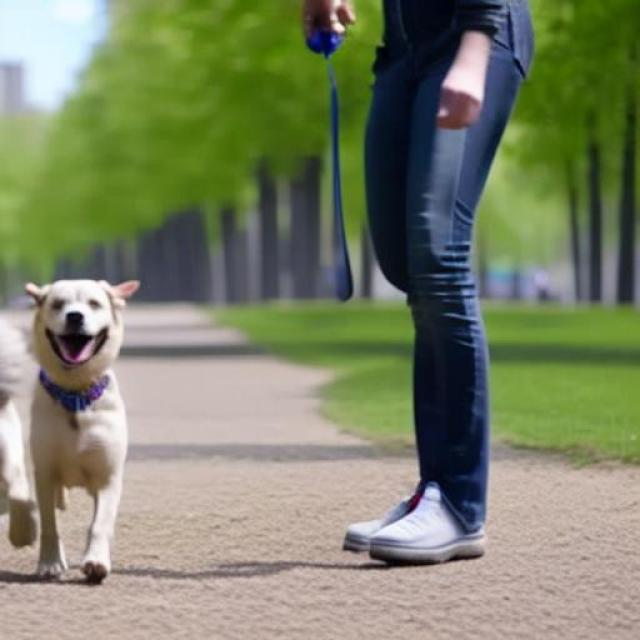Unleashed_Dog: (14, 0, 533, 584)
